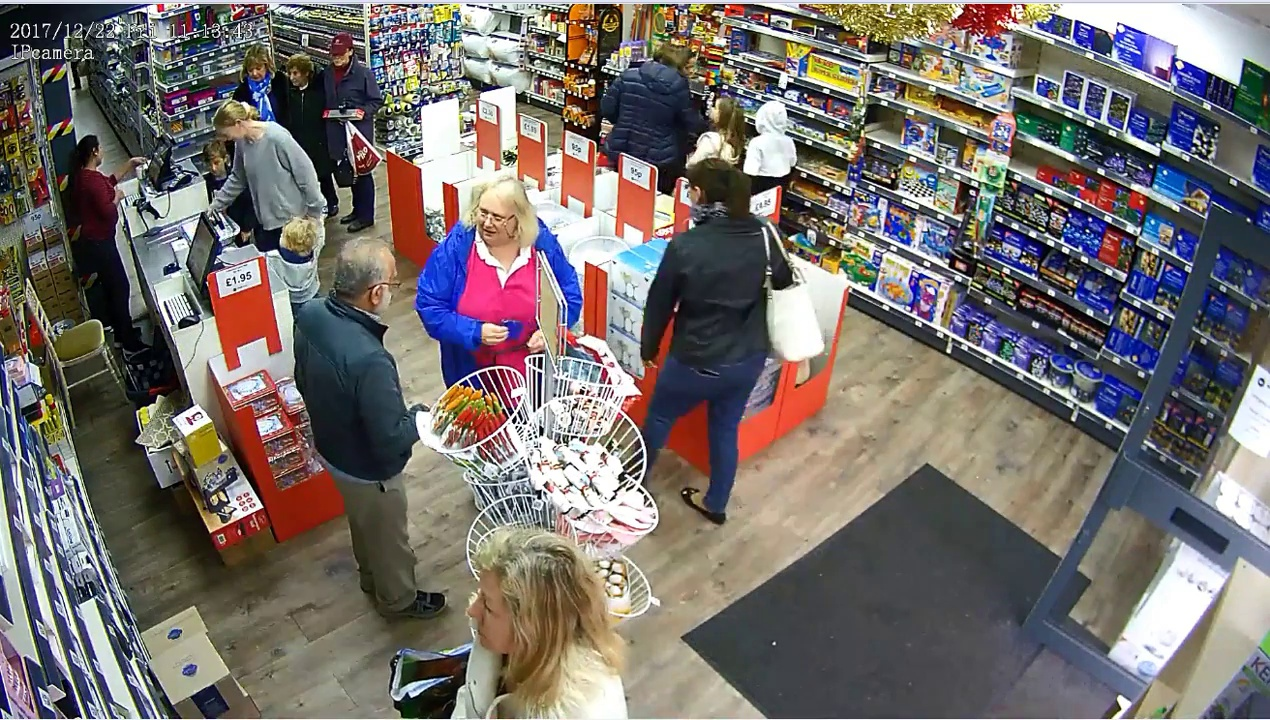face: (461, 580, 524, 649), (470, 192, 518, 252), (287, 63, 313, 91), (243, 60, 267, 85), (206, 158, 224, 178)
